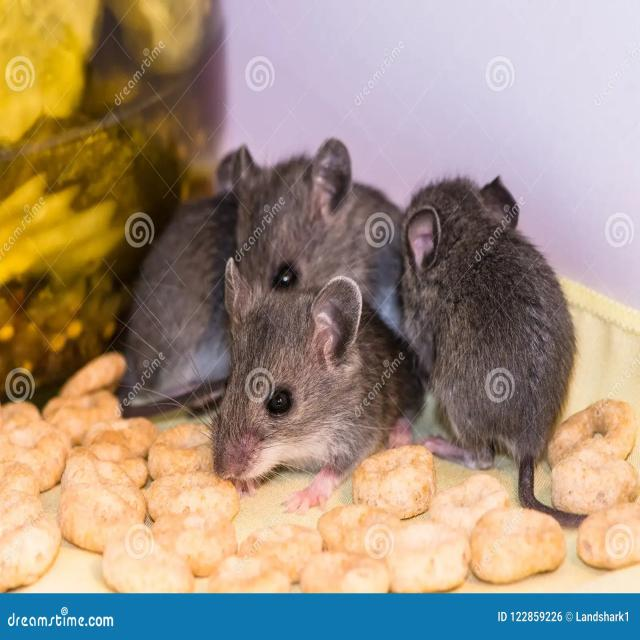rat: (395, 163, 600, 523), (204, 121, 425, 325), (206, 283, 424, 484)
